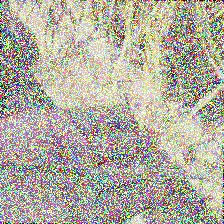Leaf_Blast: (4, 155, 212, 185)
